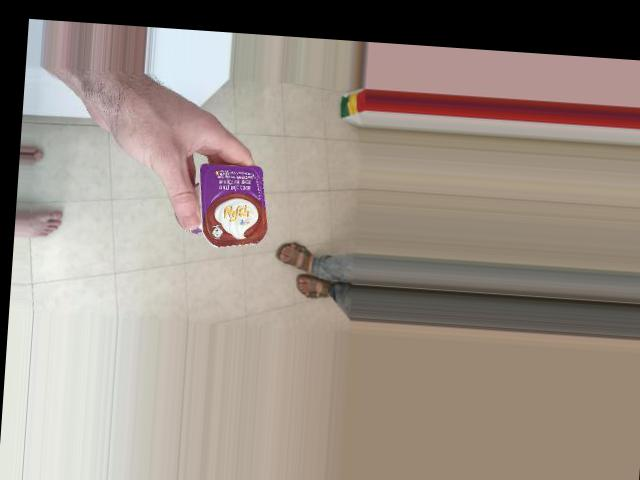milky: (169, 157, 279, 254)
